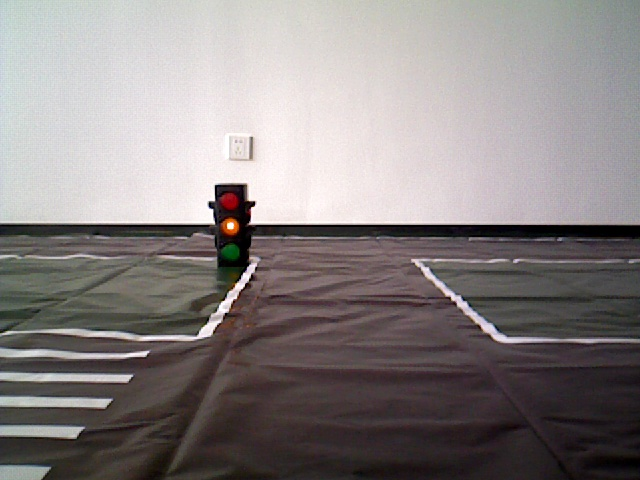yellow: (212, 182, 255, 271)
